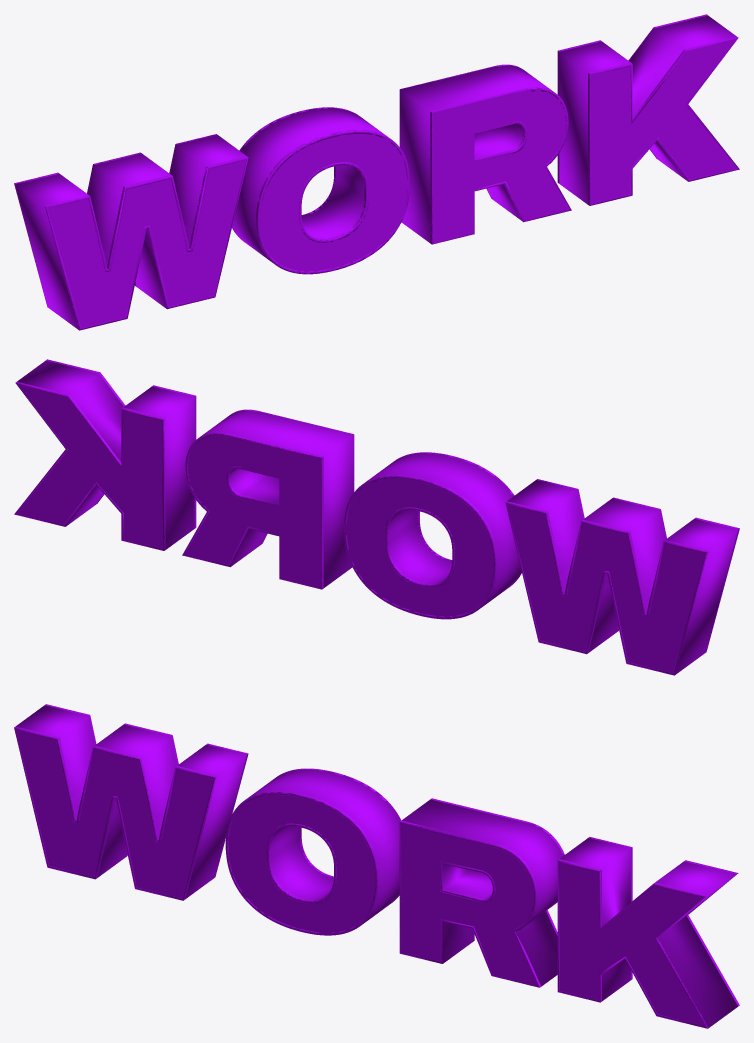
File: work2.glb
The picture shows the model from 3 angles, top to bottom: view 1: azimuth 30°, elevation 25°; view 2: azimuth 150°, elevation 25°; view 3: azimuth 330°, elevation 25°; orthographic projection.
Visible parts, largest first — view 1: Text; view 2: Text; view 3: Text.
Boxes of the visible parts, x1,y1,x2,y2 form: Text: (14, 14, 739, 330); Text: (14, 359, 739, 675); Text: (14, 704, 739, 1028).
Bounding box in the file's own units: 2.5 × 0.4697 × 0.2.
